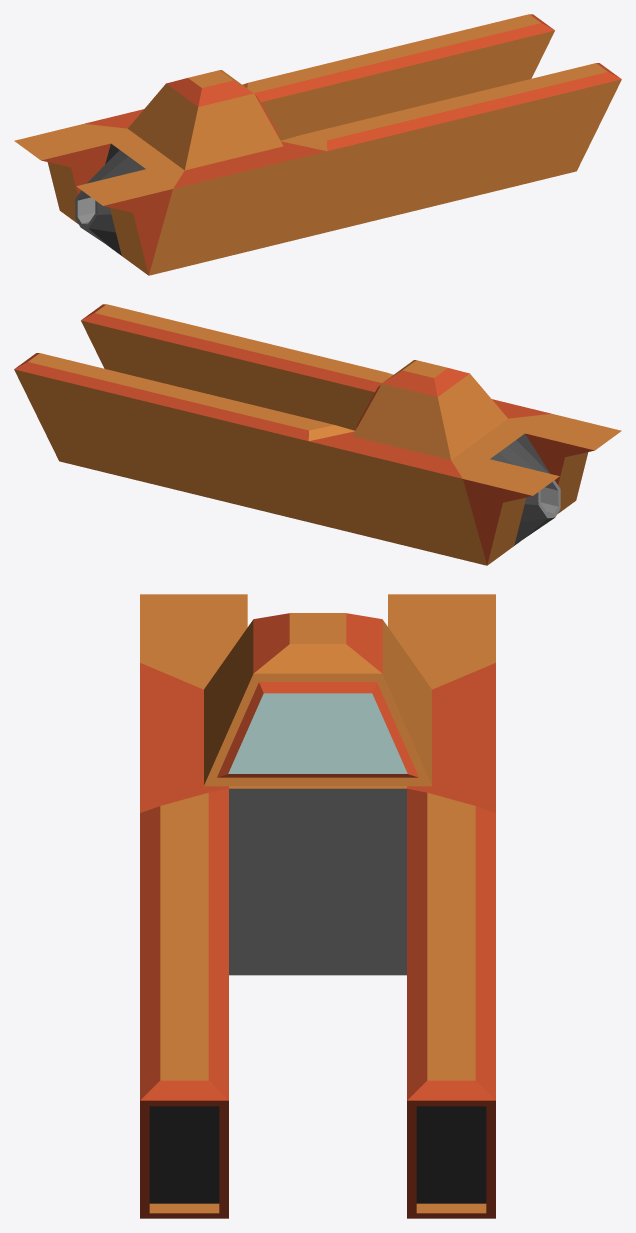
File: shipmodel2.fbx
3 renders of one model, top to bottom at view 1: azimuth 30°, elevation 25°; view 2: azimuth 150°, elevation 25°; view 3: azimuth 270°, elevation 25°, orthographic. The views are drawn at different scales.
Parts seen in each view (by area): view 1: Cube; view 2: Cube; view 3: Cube.
Boxes of the visible parts, bbox=[...] form: Cube: bbox=[14, 14, 621, 275]; Cube: bbox=[14, 304, 621, 565]; Cube: bbox=[140, 594, 495, 1218].
Size of the model in its own units: 673 by 177 by 200.
